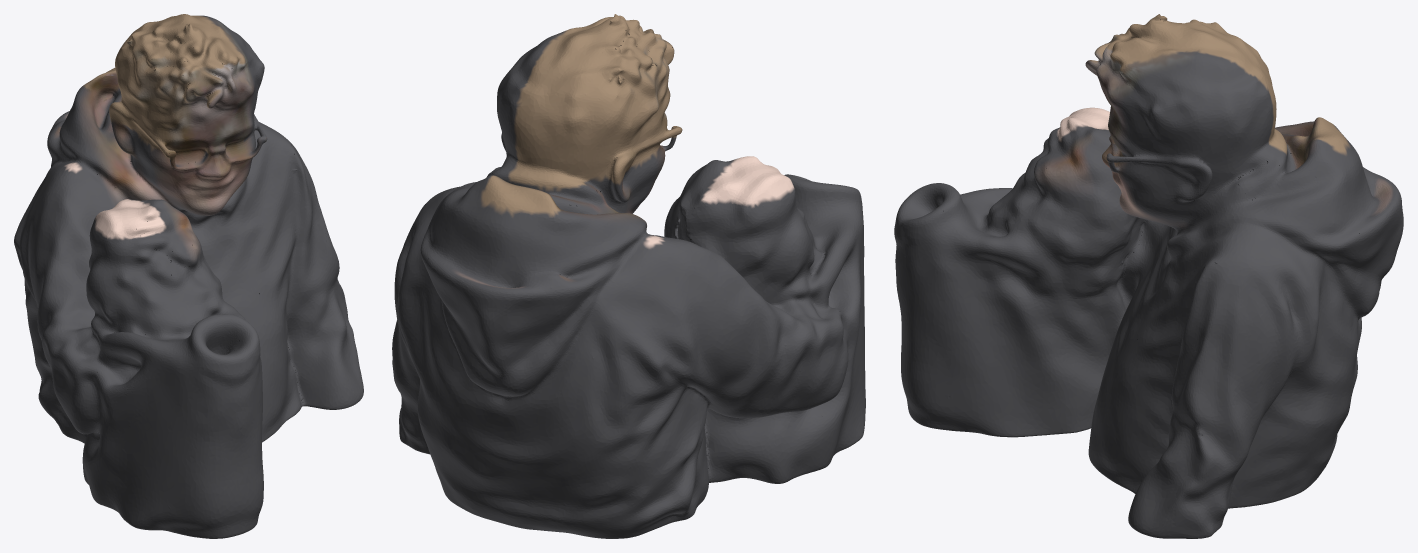
Rendered from Char_Gamer.fbx.
3 renders of one model, left to right at view 1: azimuth 30°, elevation 25°; view 2: azimuth 150°, elevation 25°; view 3: azimuth 270°, elevation 25°, orthographic. The views are drawn at different scales.
Parts seen in each view (by area): view 1: Char_Gamer; view 2: Char_Gamer; view 3: Char_Gamer.
Part boxes in pixels (<box>): Char_Gamer: <box>14,14,363,538</box>; Char_Gamer: <box>392,14,865,538</box>; Char_Gamer: <box>894,14,1403,538</box>.
Size of the model in its own units: 156 by 180 by 191.
1 material, 1 textured.
